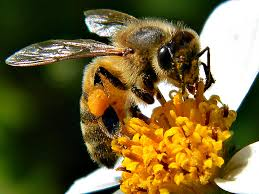bee: (2, 4, 221, 171)
